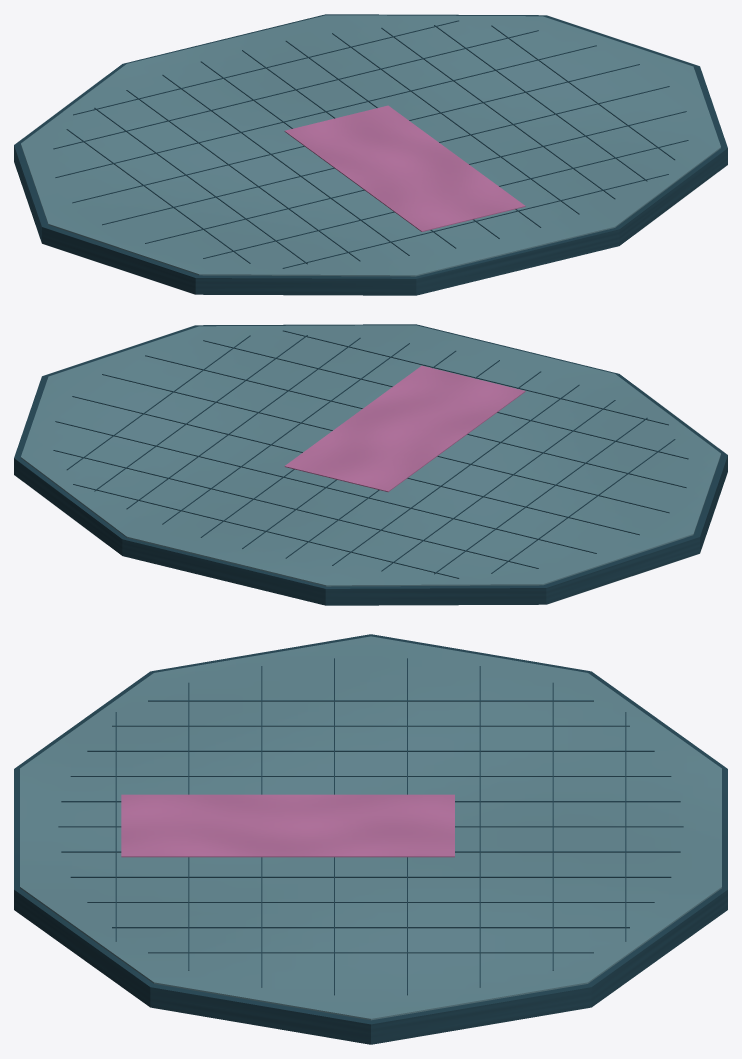
Rendered from atlas100-s062-a07.glb.
3 views of the same model, one above another, from view 1: azimuth 30°, elevation 25°; view 2: azimuth 150°, elevation 25°; view 3: azimuth 270°, elevation 25° (orthographic). The views are drawn at different scales.
Visible parts, largest first — view 1: atlas100-s062-a07:part-001, atlas100-s062-a07:part-000, atlas100-s062-a07:part-021, atlas100-s062-a07:part-015, atlas100-s062-a07:part-014, atlas100-s062-a07:part-016, atlas100-s062-a07:part-017, atlas100-s062-a07:part-018, atlas100-s062-a07:part-013, atlas100-s062-a07:part-020, atlas100-s062-a07:part-019, atlas100-s062-a07:part-005 (+3 smaller); view 2: atlas100-s062-a07:part-001, atlas100-s062-a07:part-000, atlas100-s062-a07:part-021, atlas100-s062-a07:part-015, atlas100-s062-a07:part-014, atlas100-s062-a07:part-017, atlas100-s062-a07:part-016, atlas100-s062-a07:part-018, atlas100-s062-a07:part-020, atlas100-s062-a07:part-013, atlas100-s062-a07:part-019, atlas100-s062-a07:part-005 (+3 smaller); view 3: atlas100-s062-a07:part-001, atlas100-s062-a07:part-000, atlas100-s062-a07:part-021, atlas100-s062-a07:part-009, atlas100-s062-a07:part-004, atlas100-s062-a07:part-003, atlas100-s062-a07:part-011, atlas100-s062-a07:part-002, atlas100-s062-a07:part-012.
Part boxes in pixels (left/top/right/bottom): atlas100-s062-a07:part-001: left=21, top=15, right=720, bottom=276; atlas100-s062-a07:part-000: left=14, top=14, right=727, bottom=295; atlas100-s062-a07:part-021: left=284, top=105, right=525, bottom=231; atlas100-s062-a07:part-015: left=55, top=45, right=596, bottom=177; atlas100-s062-a07:part-014: left=53, top=30, right=538, bottom=149; atlas100-s062-a07:part-016: left=72, top=64, right=639, bottom=203; atlas100-s062-a07:part-017: left=102, top=86, right=669, bottom=225; atlas100-s062-a07:part-018: left=145, top=111, right=686, bottom=243; atlas100-s062-a07:part-013: left=73, top=20, right=458, bottom=115; atlas100-s062-a07:part-020: left=282, top=174, right=668, bottom=268; atlas100-s062-a07:part-019: left=203, top=140, right=688, bottom=258; atlas100-s062-a07:part-005: left=162, top=74, right=409, bottom=255; atlas100-s062-a07:part-001: left=21, top=325, right=720, bottom=586; atlas100-s062-a07:part-000: left=14, top=324, right=727, bottom=605; atlas100-s062-a07:part-021: left=284, top=365, right=525, bottom=492; atlas100-s062-a07:part-015: left=55, top=421, right=596, bottom=553; atlas100-s062-a07:part-014: left=53, top=450, right=538, bottom=568; atlas100-s062-a07:part-017: left=102, top=374, right=669, bottom=513; atlas100-s062-a07:part-016: left=72, top=396, right=639, bottom=535; atlas100-s062-a07:part-018: left=145, top=355, right=686, bottom=487; atlas100-s062-a07:part-020: left=283, top=330, right=668, bottom=425; atlas100-s062-a07:part-013: left=73, top=484, right=459, bottom=578; atlas100-s062-a07:part-019: left=203, top=340, right=688, bottom=459; atlas100-s062-a07:part-005: left=332, top=384, right=579, bottom=565; atlas100-s062-a07:part-001: left=20, top=636, right=721, bottom=1020; atlas100-s062-a07:part-000: left=14, top=634, right=727, bottom=1044; atlas100-s062-a07:part-021: left=121, top=794, right=454, bottom=857; atlas100-s062-a07:part-009: left=70, top=876, right=671, bottom=877; atlas100-s062-a07:part-004: left=87, top=750, right=654, bottom=751; atlas100-s062-a07:part-003: left=112, top=725, right=629, bottom=726; atlas100-s062-a07:part-011: left=112, top=927, right=629, bottom=928; atlas100-s062-a07:part-002: left=148, top=700, right=593, bottom=701; atlas100-s062-a07:part-012: left=148, top=952, right=593, bottom=953.
Bounding box in the file's own units: 13.95 × 0.404 × 10.78.
Materials: 3 (3 with a texture image).
